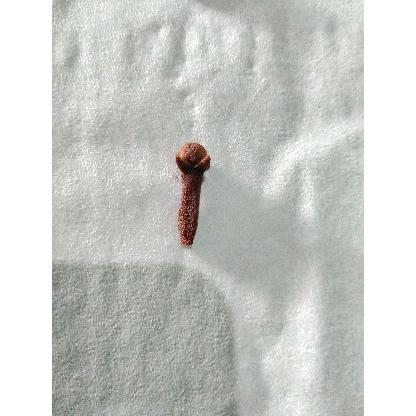baik: (175, 142, 211, 248)
